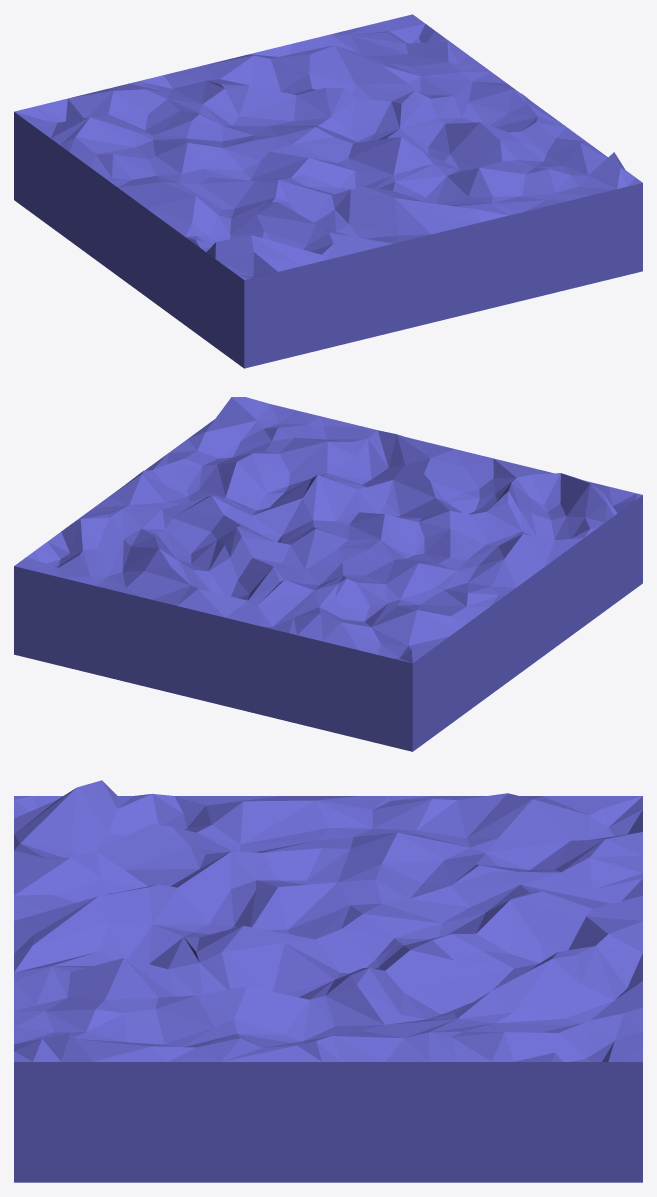
Rendered from Water_Day 1.fbx.
3 renders of one model, top to bottom at view 1: azimuth 30°, elevation 25°; view 2: azimuth 150°, elevation 25°; view 3: azimuth 270°, elevation 25°, orthographic. The views are drawn at different scales.
Visible parts, largest first — view 1: pPlane1; view 2: pPlane1; view 3: pPlane1.
Part boxes in pixels (bbox=[...]): pPlane1: bbox=[14, 14, 642, 368]; pPlane1: bbox=[14, 397, 642, 751]; pPlane1: bbox=[14, 780, 642, 1182].
Size of the model in its own units: 12 by 3.2 by 12.
